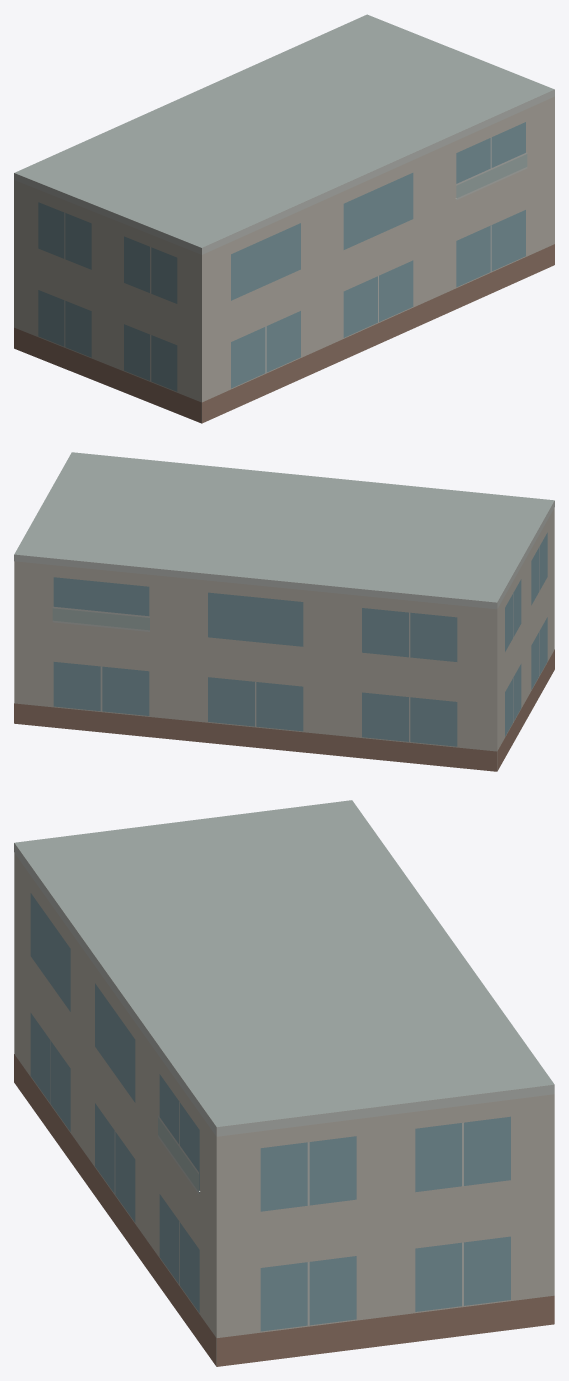
File: survey-upis-32719734.glb
The picture shows the model from 3 angles, top to bottom: view 1: azimuth 30°, elevation 25°; view 2: azimuth 150°, elevation 25°; view 3: azimuth 270°, elevation 25°; orthographic projection. The views are drawn at different scales.
Visible parts, largest first — view 1: survey-upis-32719734.tmp; view 2: survey-upis-32719734.tmp; view 3: survey-upis-32719734.tmp.
Boxes of the visible parts, <box> form: survey-upis-32719734.tmp: <box>14,14,554,423</box>; survey-upis-32719734.tmp: <box>14,452,554,771</box>; survey-upis-32719734.tmp: <box>14,800,554,1366</box>.
Bounding box in the file's own units: 17.87 × 6.1 × 12.48.
